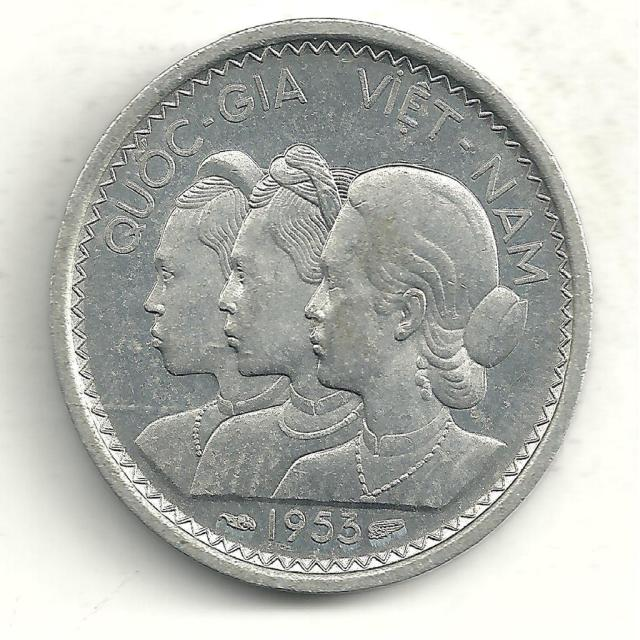Coin: (43, 13, 597, 597)
